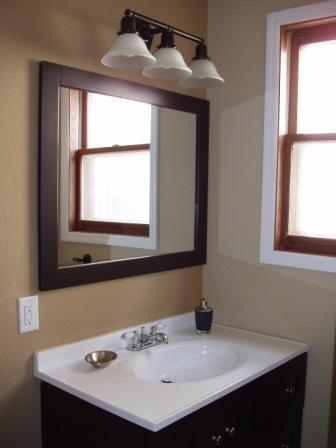Lavamanos: (112, 319, 258, 392)
